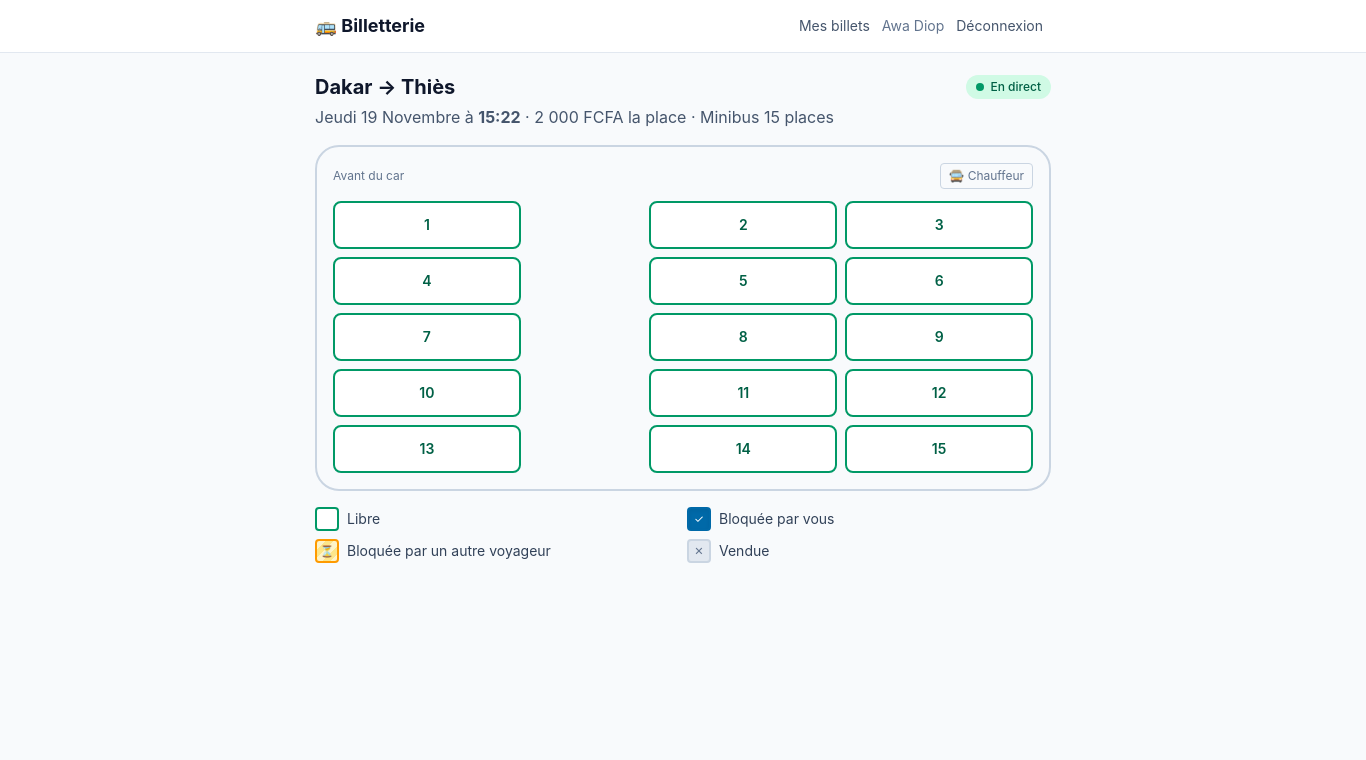
page du plan du car › 409 SEAT_TAKEN : toast « Cette place vient d’être prise » et plan rechargé
Click the button named "Place 3,".
click(939, 225)  # box [845, 201, 1033, 249]
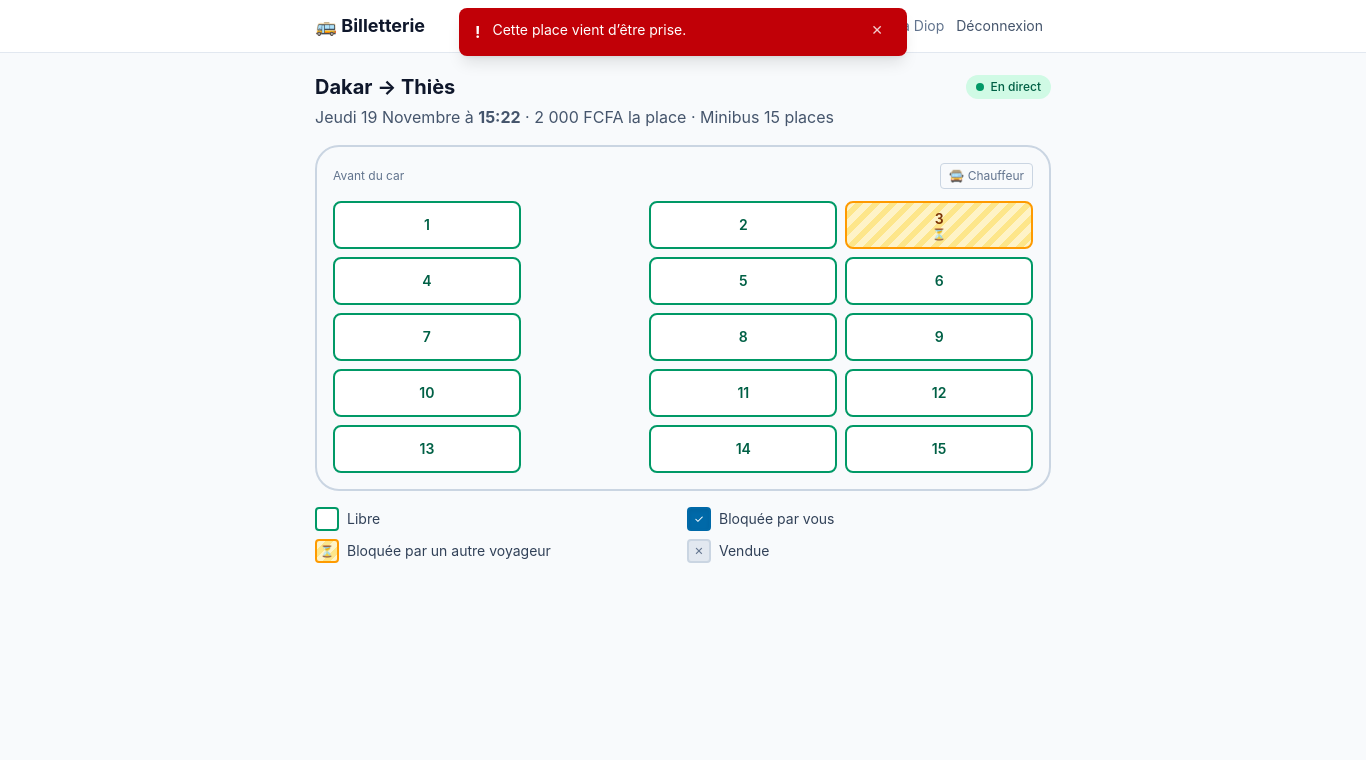
Result: the message "! Cette place vient d’être prise. ✕" is shown at [459, 8, 907, 56]
